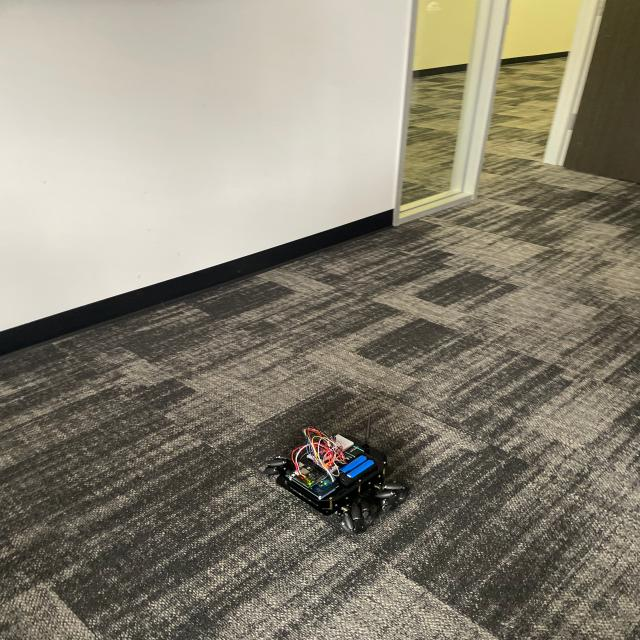ArduinoCar3: (262, 422, 422, 534)
